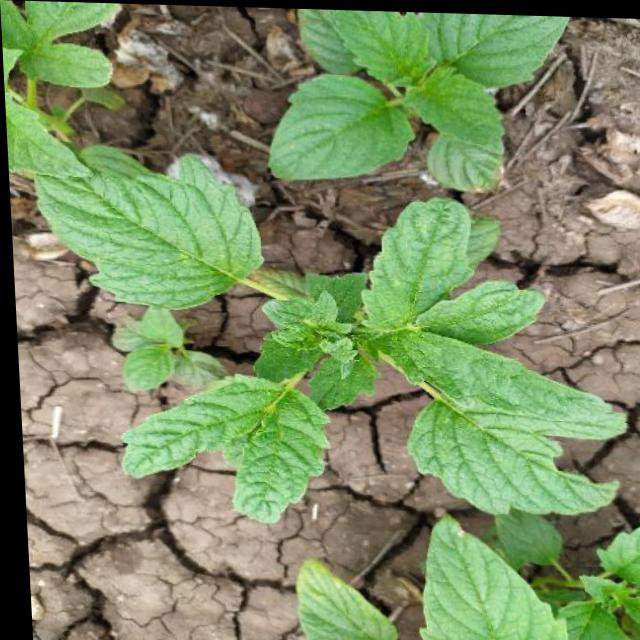crop: (27, 145, 640, 529), (215, 7, 614, 202)
